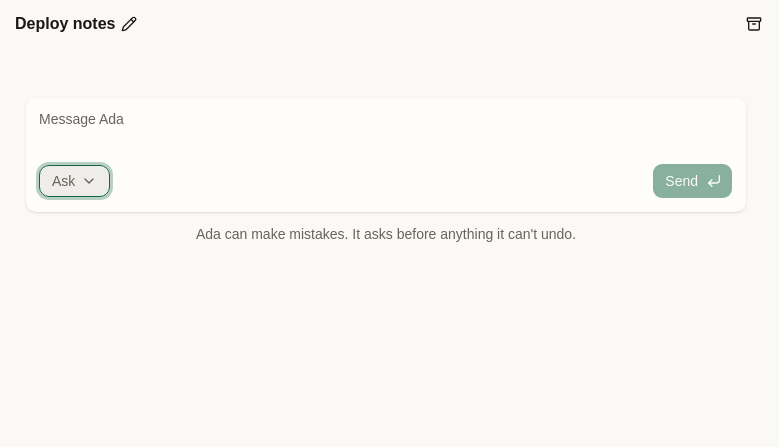
Scenario: a thread's panel › the mode › refuses another pick while the change is out, and shows why once it fails
The image size is (779, 447).
Press Arrowdown
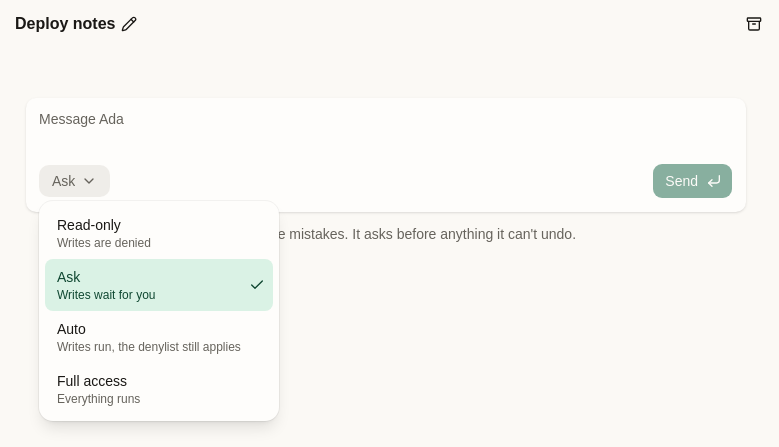
Press Arrowup Enter
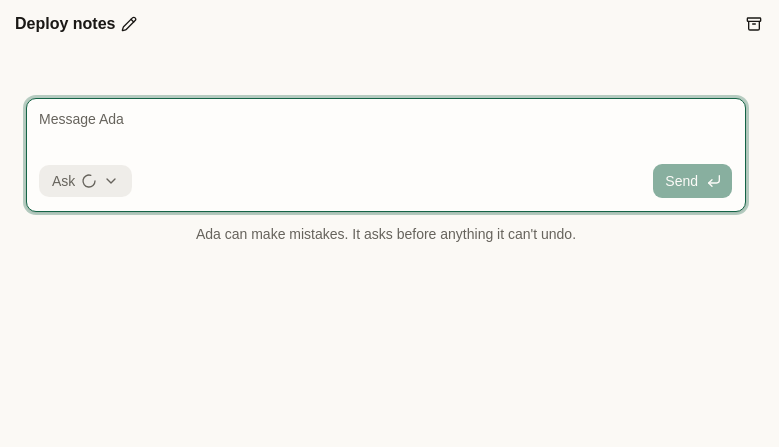
Check: the message named "Changing the mode" is shown, box top-left (81, 173), bottom-right (97, 189)
Click the dropdown named "Mode": (86, 181) top-left (39, 165), bottom-right (132, 197)
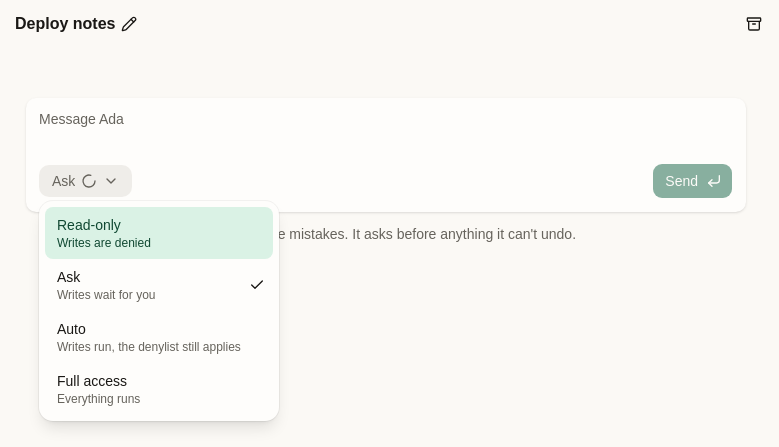
Click the option "Full access Everything runs": (99, 390) top-left (57, 373), bottom-right (140, 406)
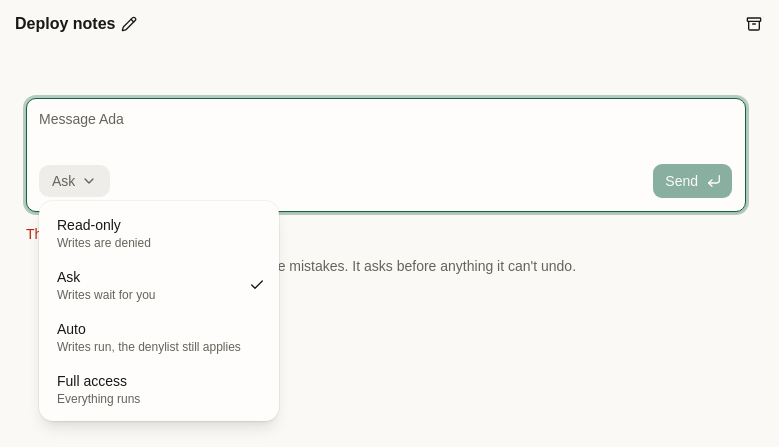
Check: the dropdown named "Mode" shows "Ask", box top-left (39, 165), bottom-right (110, 197)
Check: the message reads "The connection to the instance dropped.", box top-left (26, 226), bottom-right (276, 242)
